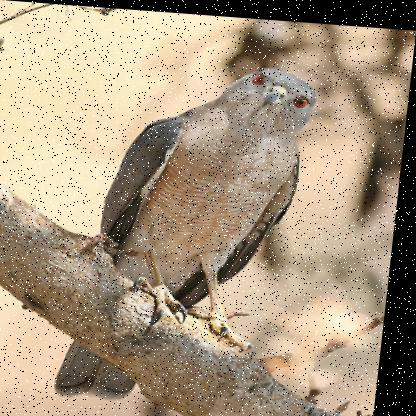Burung: (62, 52, 320, 408)
